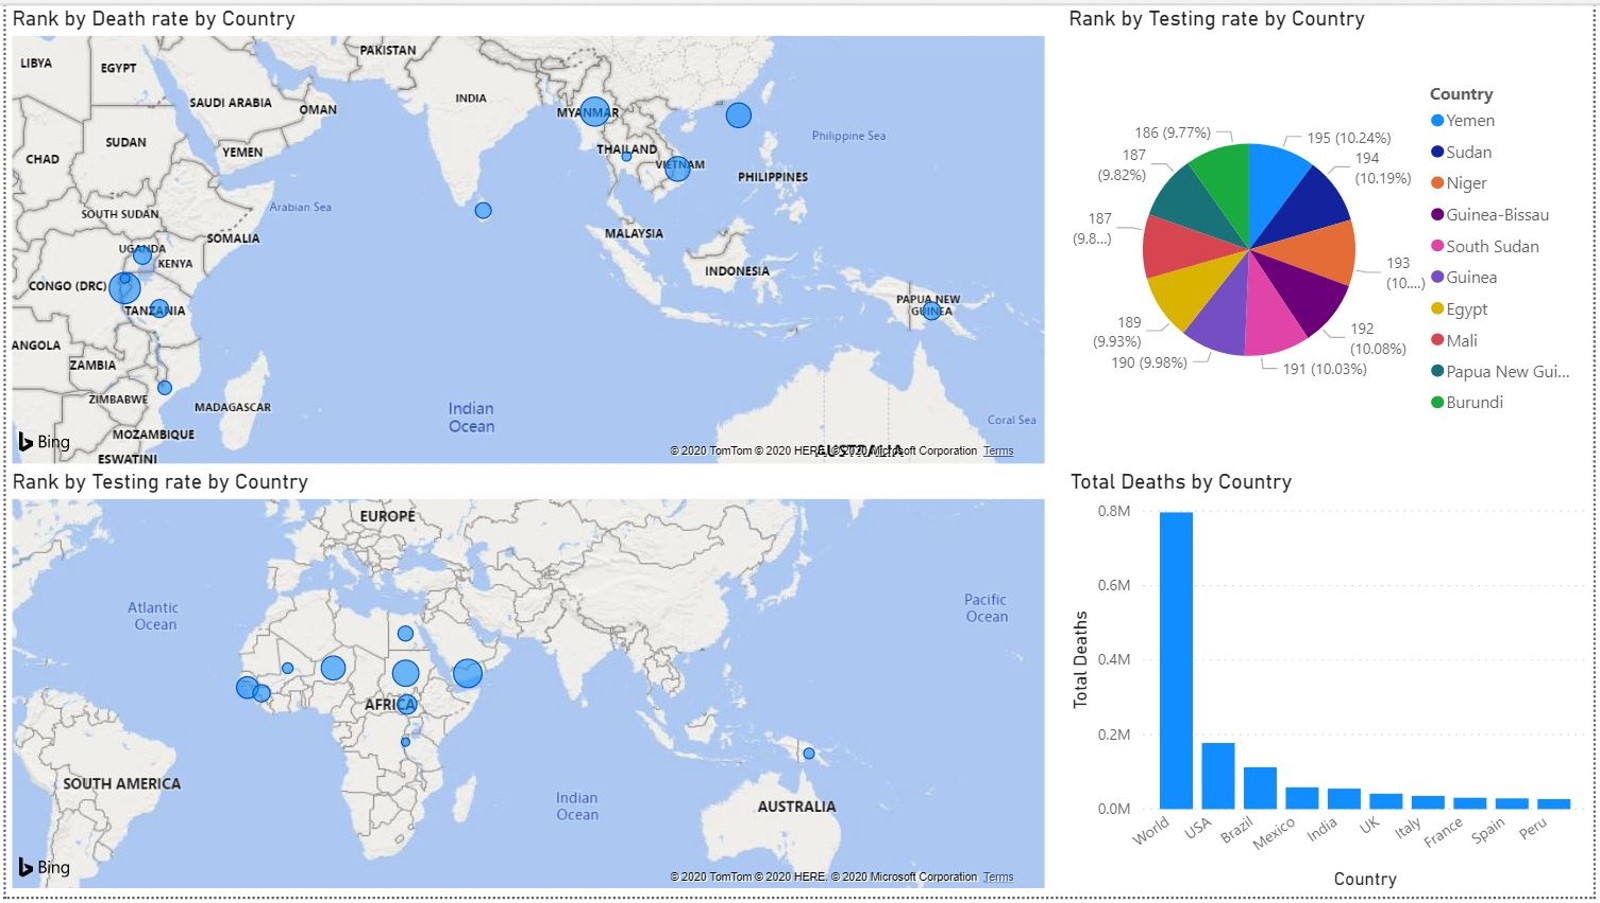

The dashboard page shown, as its layout file describes it:
{"tool":"powerbi","page":{"name":"Page 1","canvas":[1280,720],"ordinal":0},"visuals":[{"type":"map","fields":{"Category":["covid-19.Country/Other"],"Size":["Sum(covid-19.Deaths/1M_pop)"]},"box":[0,101.5,724.9,305.6],"z":0},{"type":"map","fields":{"Category":["covid-19.Country/Other"],"Size":["Sum(covid-19.Tests/1M_pop)"]},"box":[0,407.1,724.9,312.9],"z":1000},{"type":"pieChart","fields":{"Category":["covid-19.Country/Other"],"Y":["Sum(covid-19.Tests/1M_pop)"]},"box":[724.9,407.1,555,312.9],"z":2000},{"type":"textbox","box":[304.4,0,717.6,101.5],"z":3000}]}

Visuals, with their boxes in screenshot pixels (x1, y1, x2, y2), scaled from the page's 1280x720 canvas onto the 1600x903 screenshot:
map - covid-19.Country/Other x Sum(covid-19.Deaths/1M_pop): (0, 127, 906, 511)
map - covid-19.Country/Other x Sum(covid-19.Tests/1M_pop): (0, 511, 906, 902)
pieChart - covid-19.Country/Other x Sum(covid-19.Tests/1M_pop): (906, 511, 1599, 902)
textbox: (380, 0, 1278, 127)
